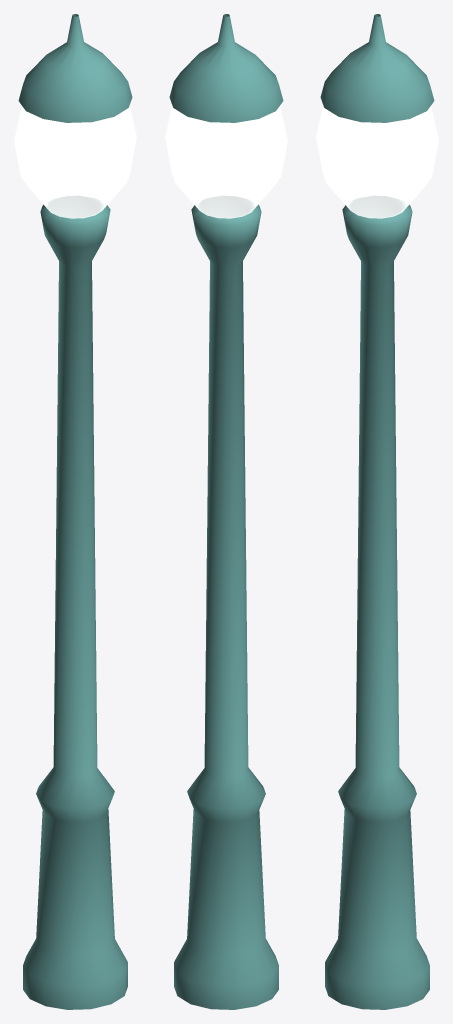
The model's file is vintage_lamp.glb.
The picture shows the model from 3 angles, left to right: view 1: azimuth 30°, elevation 25°; view 2: azimuth 150°, elevation 25°; view 3: azimuth 330°, elevation 25°; orthographic projection.
Visible parts, largest first — view 1: LampPostBody, LampLanternGlass; view 2: LampPostBody, LampLanternGlass; view 3: LampPostBody, LampLanternGlass.
Boxes of the visible parts, x1,y1,x2,y2 form: LampPostBody: [18, 14, 132, 1009]; LampLanternGlass: [14, 105, 136, 218]; LampPostBody: [169, 14, 283, 1009]; LampLanternGlass: [165, 105, 287, 218]; LampPostBody: [320, 14, 434, 1009]; LampLanternGlass: [316, 105, 438, 218].
Size of the model in its own units: 0.56 by 4.88 by 0.546.
